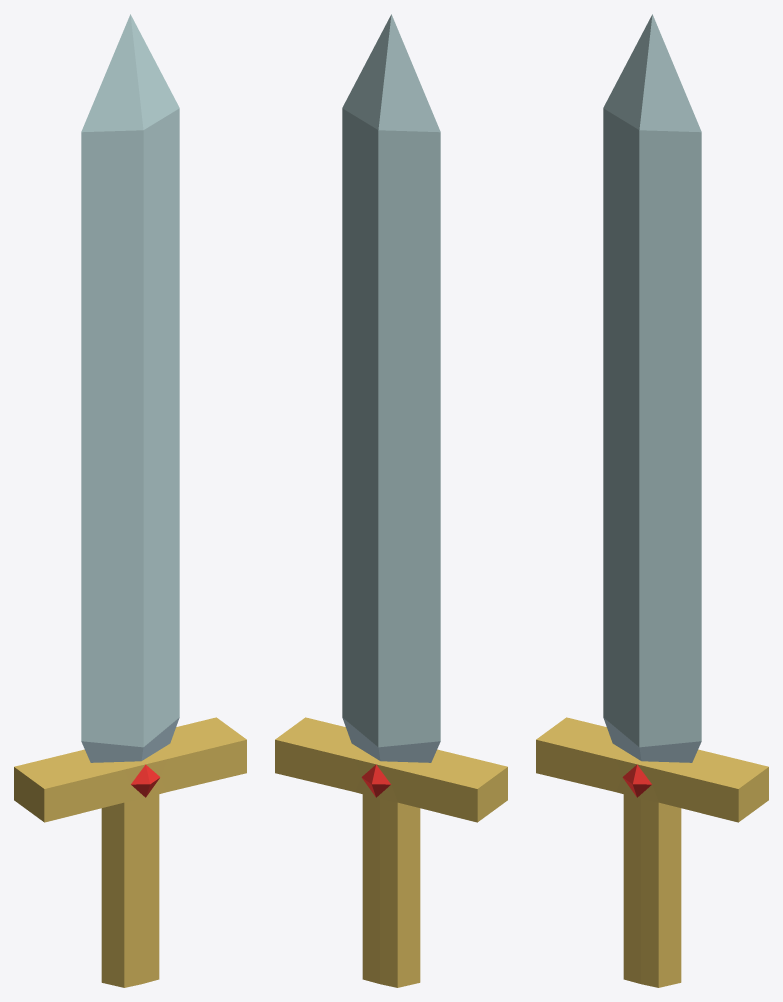
File: sword.glb
3 views of the same model, side by side, from view 1: azimuth 30°, elevation 25°; view 2: azimuth 150°, elevation 25°; view 3: azimuth 330°, elevation 25° (orthographic).
Parts seen in each view (by area): view 1: BlockySword; view 2: BlockySword; view 3: BlockySword.
Part boxes in pixels (<box>): BlockySword: <box>14,14,246,987</box>; BlockySword: <box>275,14,507,987</box>; BlockySword: <box>536,14,768,987</box>.
Size of the model in its own units: 0.6925 by 3.14 by 0.2334.
Materials: 1 (1 with a texture image).
